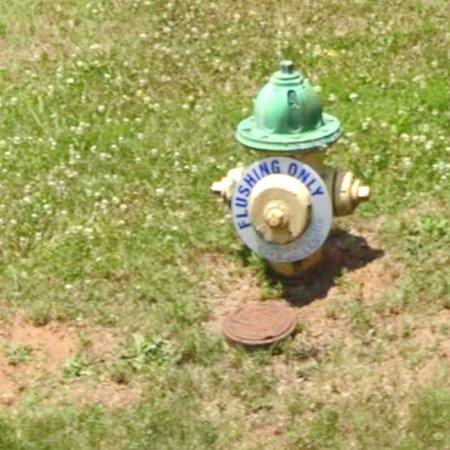a fire hydrant: (213, 60, 370, 277)
